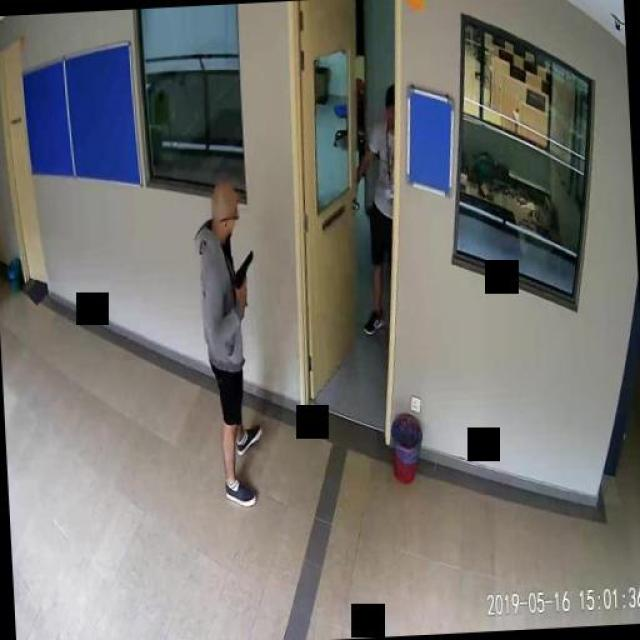gun: (231, 249, 254, 300)
